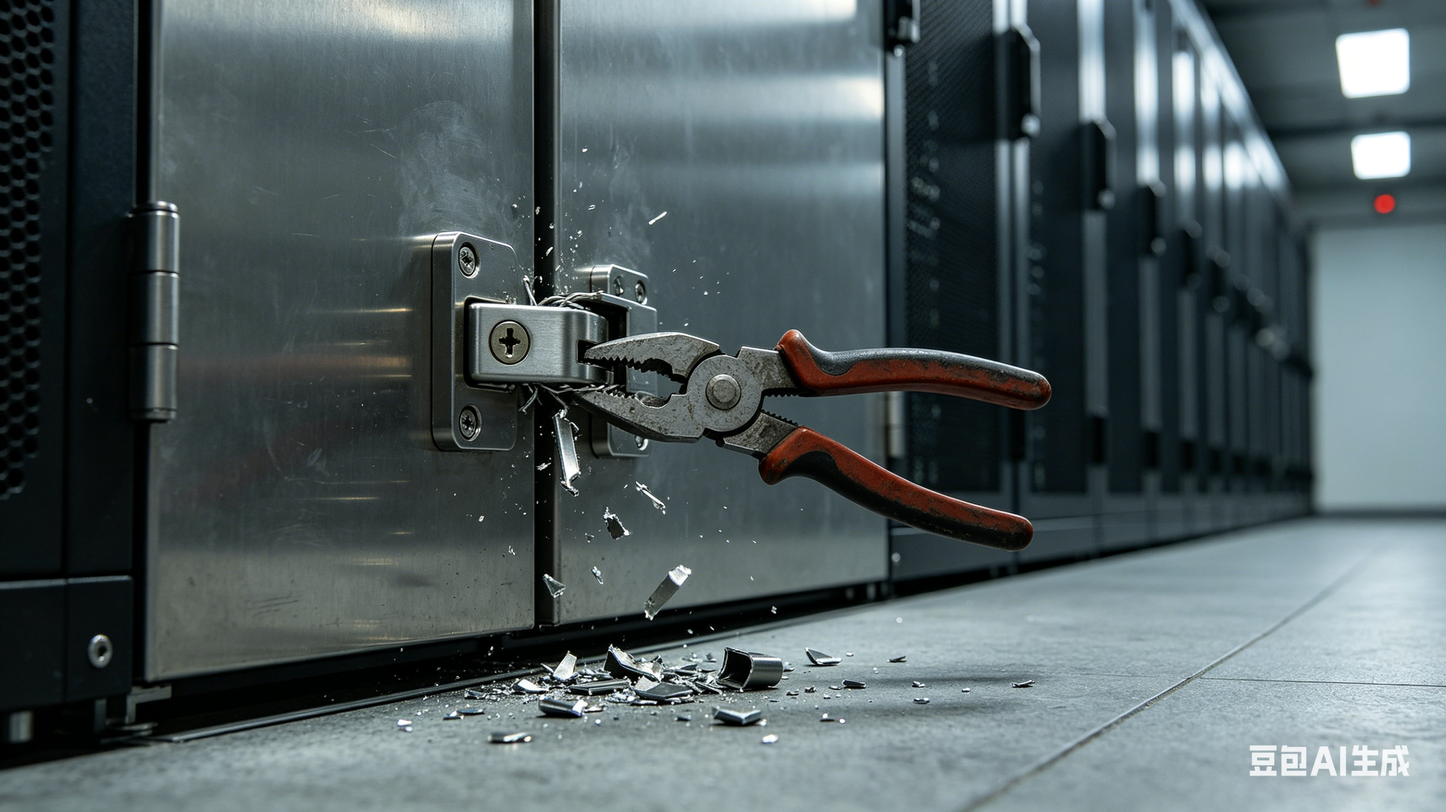BadLock: (444, 257, 661, 451)
